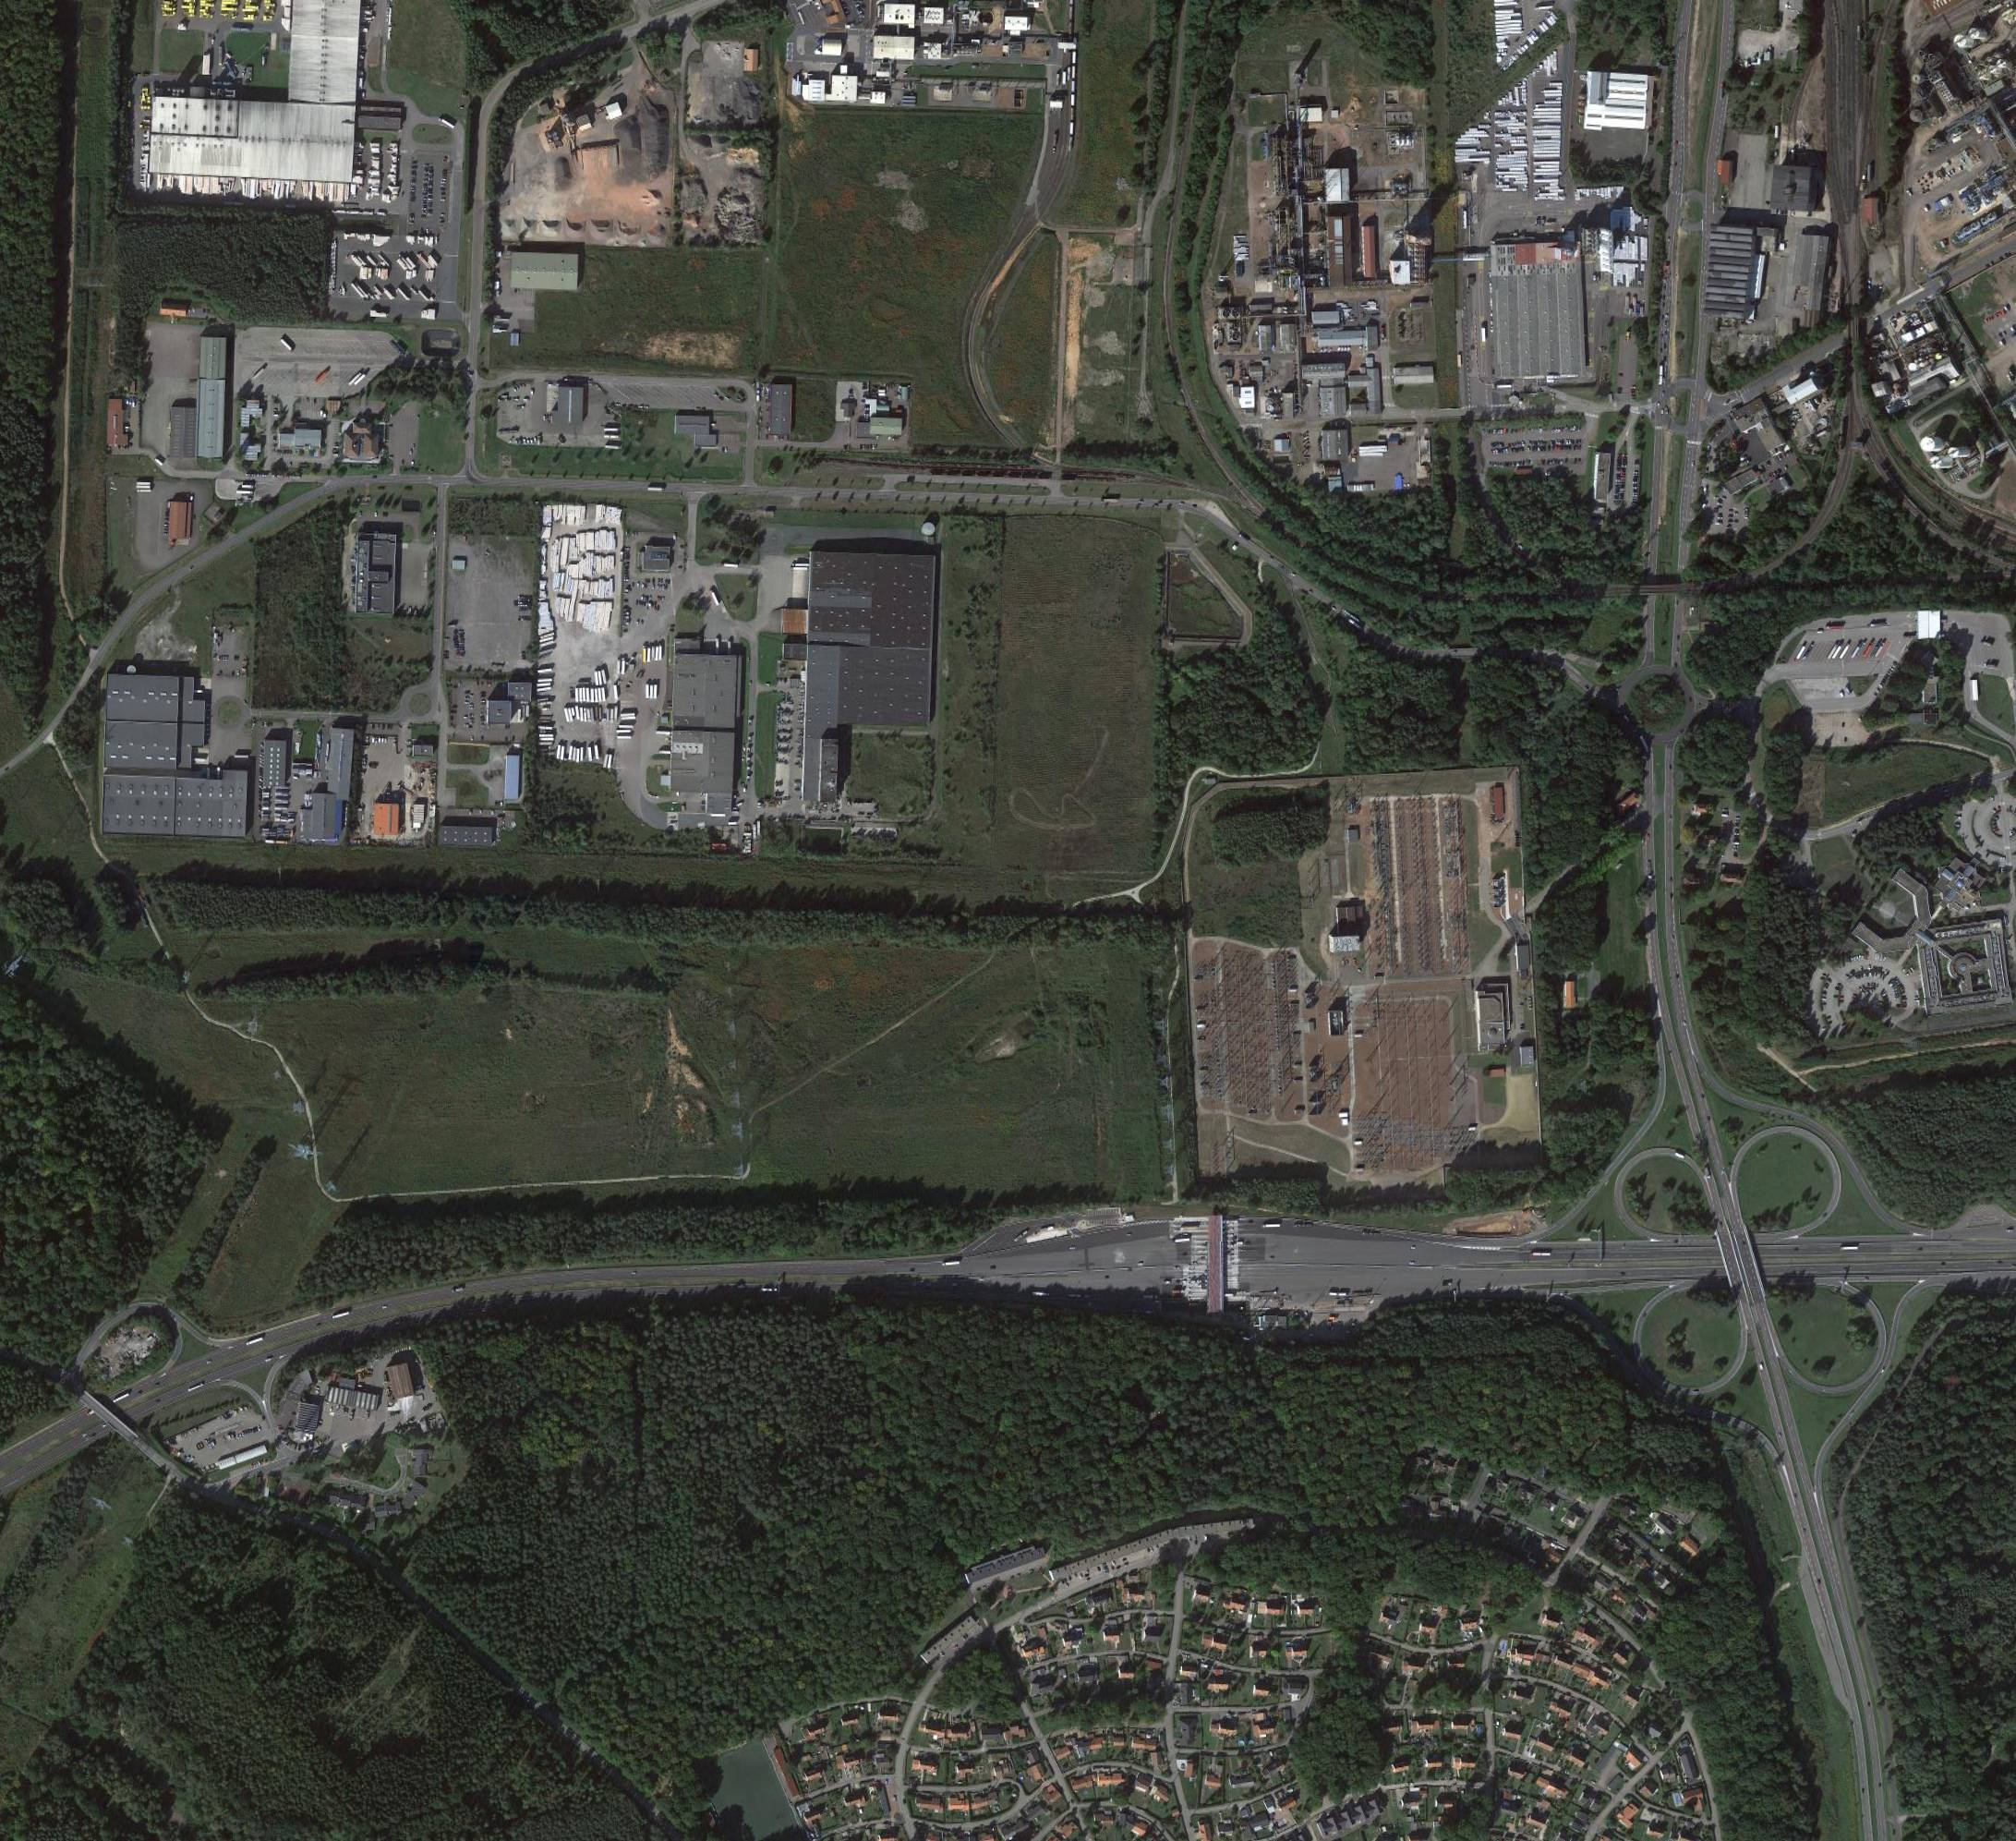roundabout: (1624, 659, 1697, 744), (1655, 371, 1716, 433), (1670, 188, 1713, 240), (397, 684, 440, 725), (215, 694, 251, 734)
